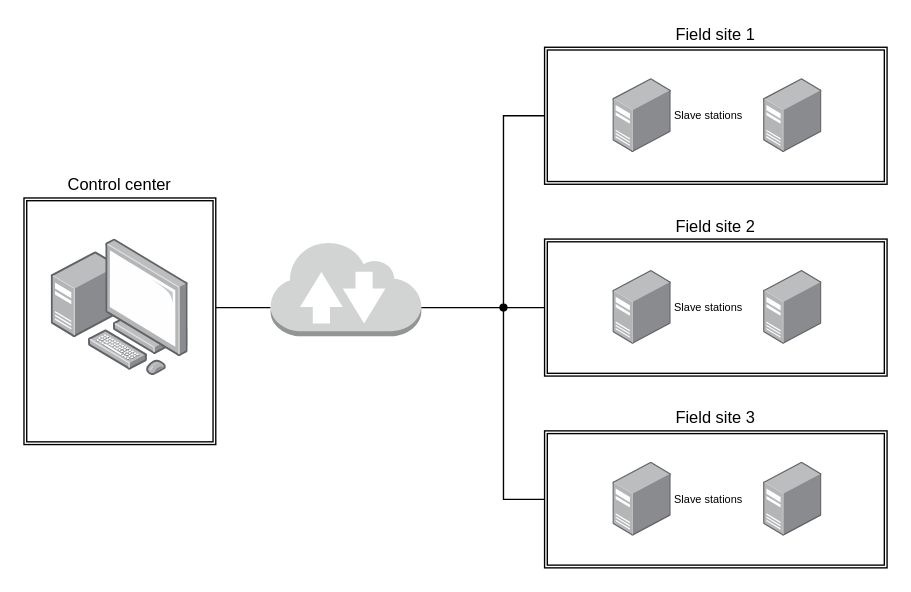
Image size: 911x592. Some labels were removed from this diagram. Each missing label, with the centre of its shape:
"Master station" goes at [119,306].
"Wide area network" goes at [345,287].
